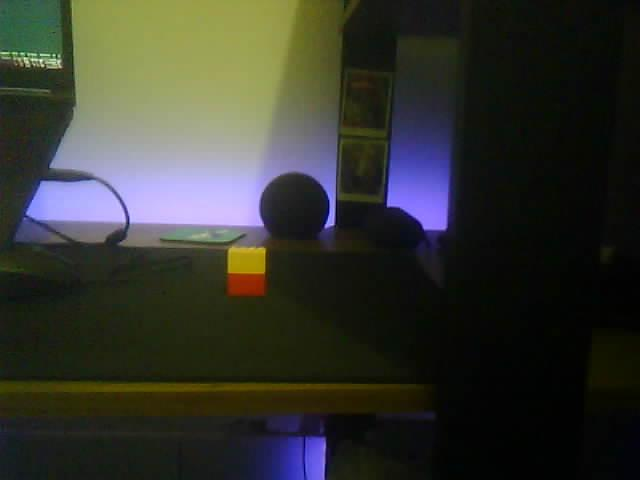lego: (226, 245, 270, 297)
